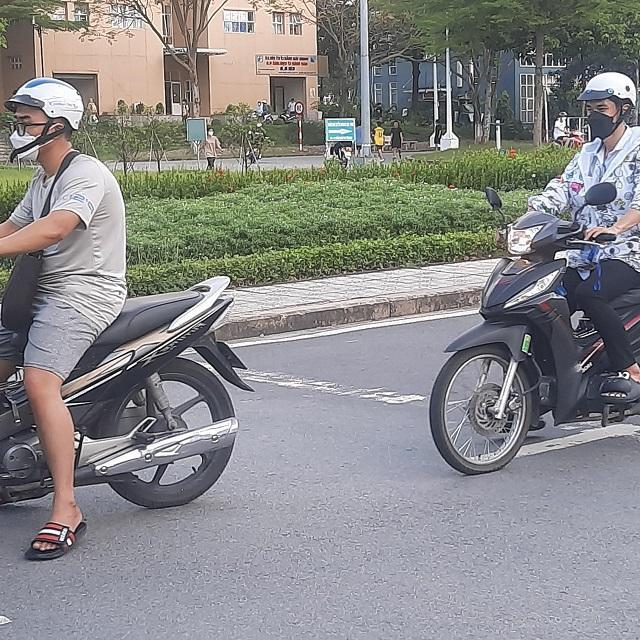Helmet: (5, 77, 81, 167), (578, 70, 640, 150)
